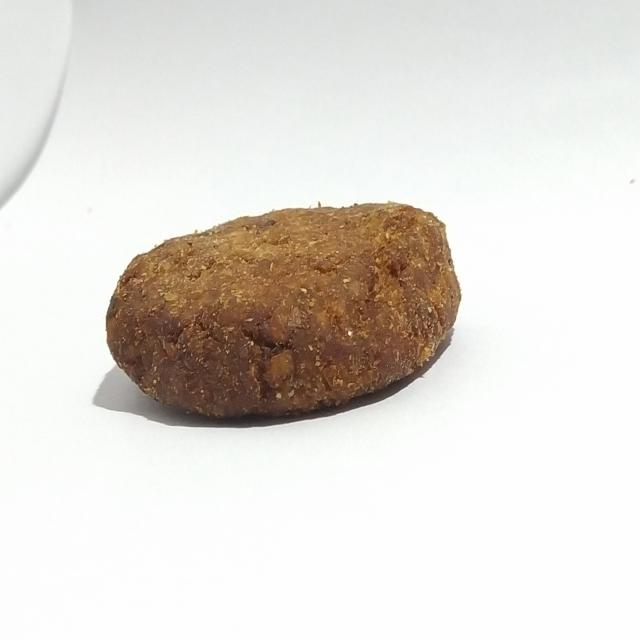Pajagua: (98, 188, 467, 437)
